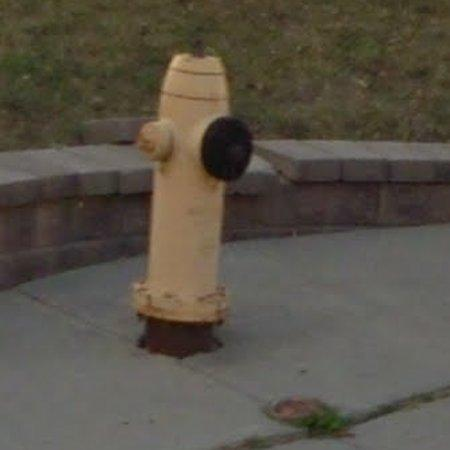a fire hydrant: (134, 53, 253, 327)
